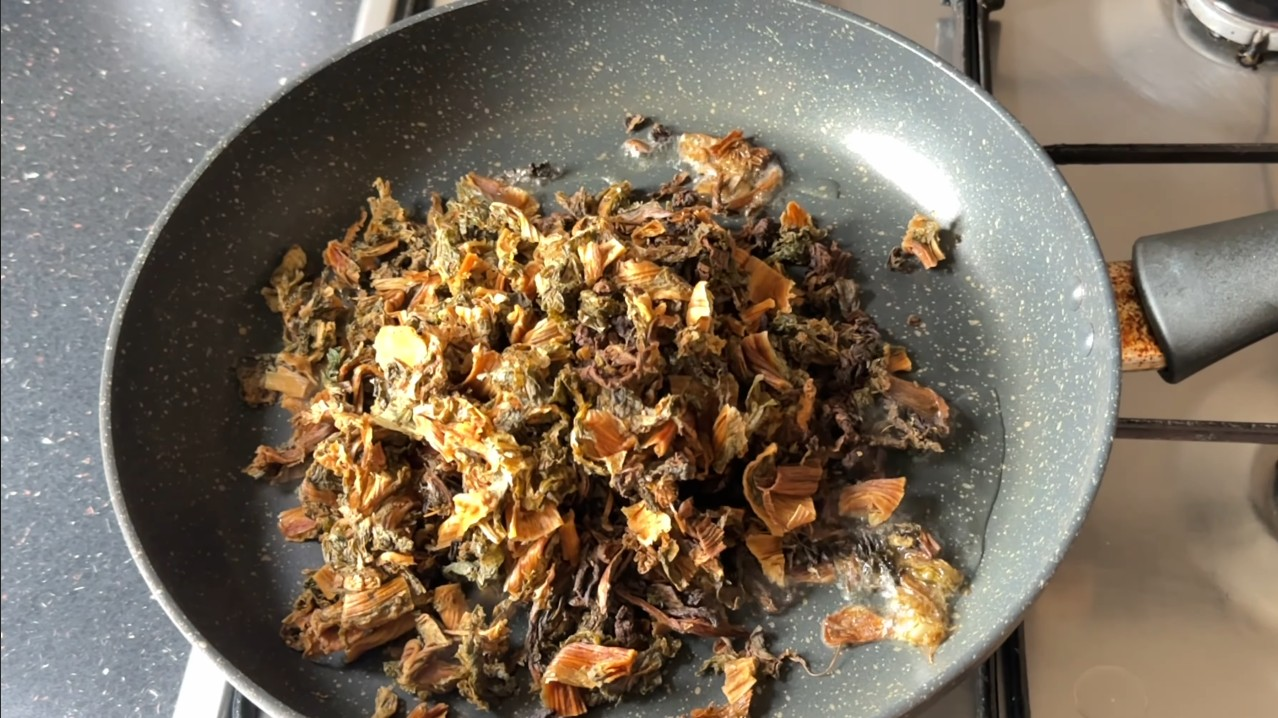gundruk: (263, 167, 933, 682)
